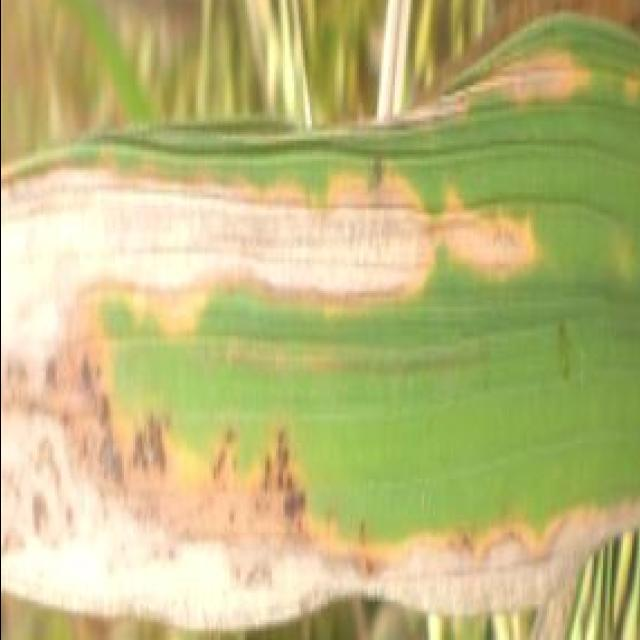Bacterial_Leaf_Blight: (0, 150, 640, 636)
